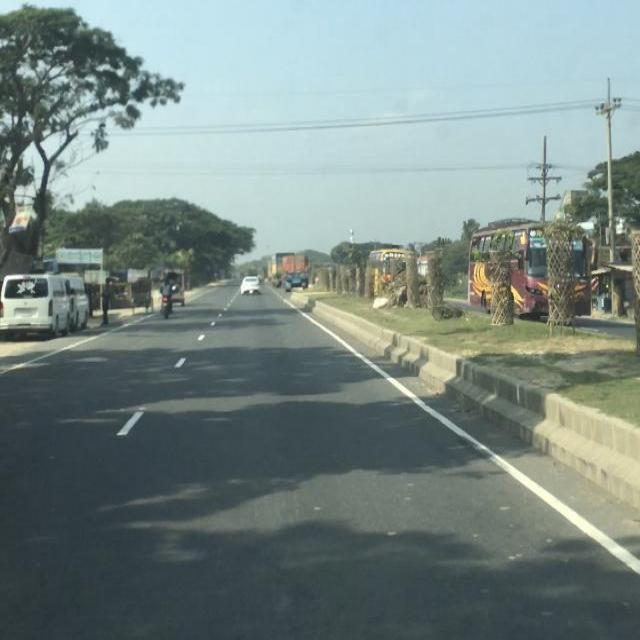bike: (159, 280, 180, 316)
vehicle: (470, 226, 548, 321), (2, 273, 74, 339), (279, 254, 311, 293), (237, 275, 263, 297)
